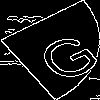G: (25, 25, 100, 85)
